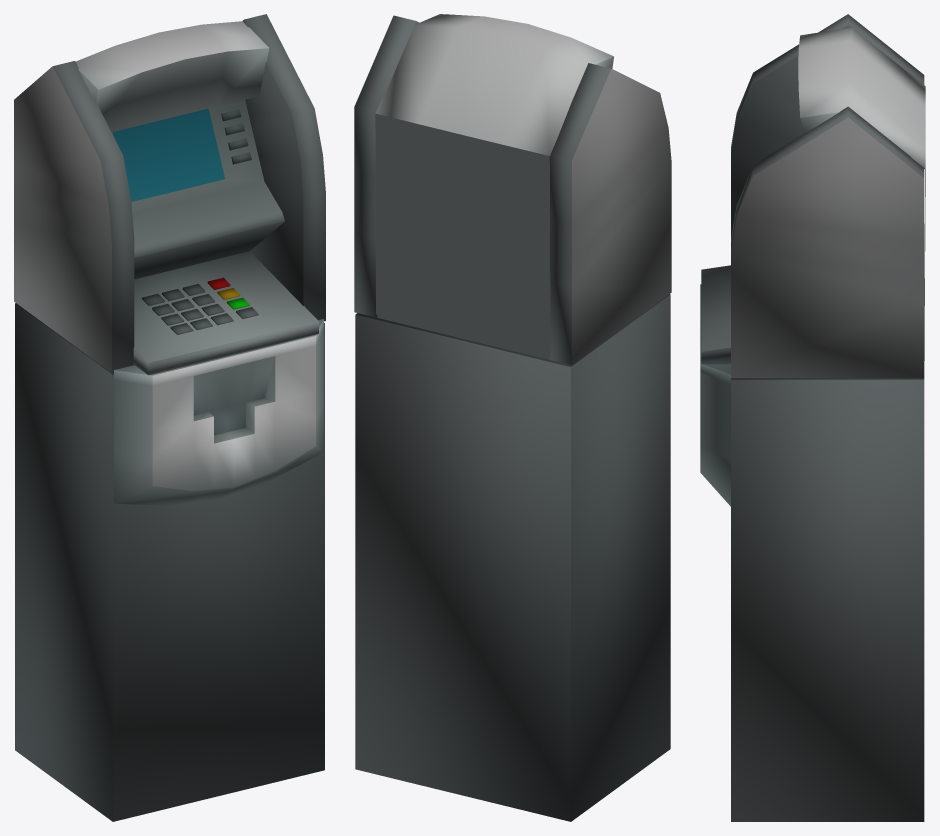
File: ATM_Regular.fbx
3 renders of one model, left to right at view 1: azimuth 30°, elevation 25°; view 2: azimuth 150°, elevation 25°; view 3: azimuth 270°, elevation 25°, orthographic. The views are drawn at different scales.
Visible parts, largest first — view 1: ATM_Regular; view 2: ATM_Regular; view 3: ATM_Regular.
Part boxes in pixels (box(x1,y1,x2,y2)): ATM_Regular: box(14, 14, 325, 821); ATM_Regular: box(354, 14, 671, 821); ATM_Regular: box(700, 14, 925, 821).
Bounding box in the file's own units: 60.83 × 195 × 56.06.
